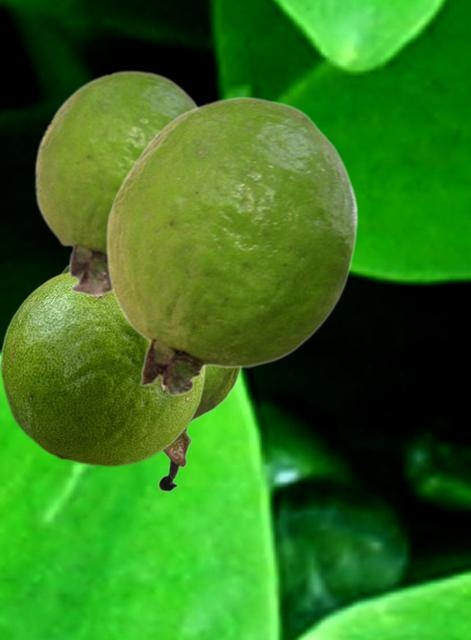guava: (105, 96, 357, 396), (58, 264, 242, 491), (0, 270, 205, 466), (34, 69, 198, 296)
